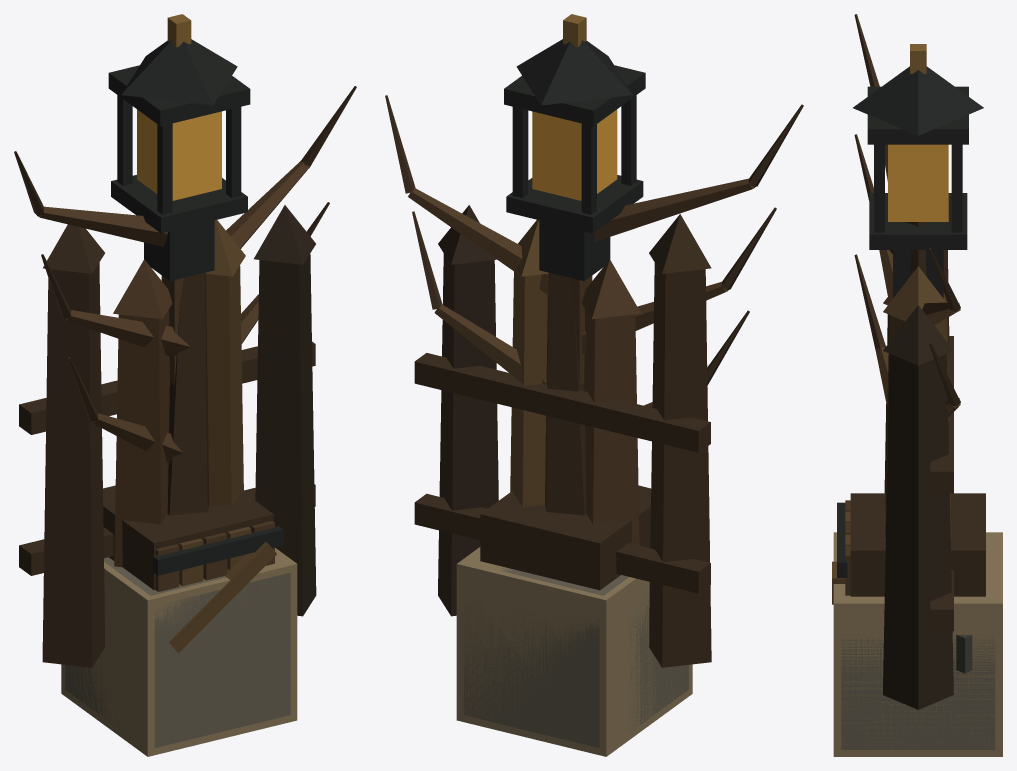
Rendered from outskirts-kit.glb.
3 renders of one model, left to right at view 1: azimuth 30°, elevation 25°; view 2: azimuth 150°, elevation 25°; view 3: azimuth 270°, elevation 25°, orthographic. The views are drawn at different scales.
Parts seen in each view (by area): view 1: palisade, lantern, brick, tree, tile, crate; view 2: palisade, lantern, tile, tree, brick, crate; view 3: palisade, lantern, tile, brick, crate, tree, rubble.
Boxes of the visible parts, x1,y1,x2,y2 form: palisade: (19,205,316,667); lantern: (108,14,250,385); brick: (65,557,290,747); tree: (14,86,356,515); tile: (61,548,297,756); crate: (103,485,283,652); palisade: (414,205,711,667); lantern: (504,14,645,385); tile: (456,547,692,756); tree: (385,95,803,515); brick: (463,566,688,748); crate: (480,485,651,590); palisade: (882,250,953,709); lantern: (853,44,983,298); tile: (833,532,1002,756); brick: (841,634,995,749); crate: (832,493,985,604); tree: (854,14,960,417); rubble: (956,635,972,673).
Bounding box in the file's own units: 2.54 × 4.39 × 1.01.
